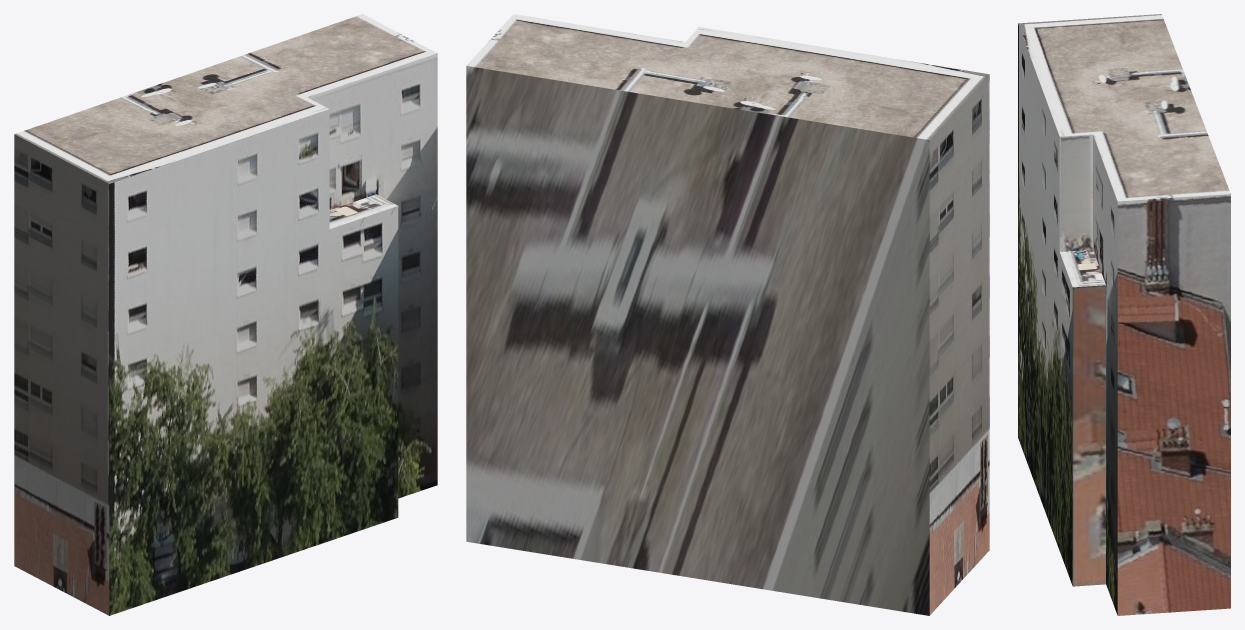
3 renders of one model, left to right at view 1: azimuth 30°, elevation 25°; view 2: azimuth 150°, elevation 25°; view 3: azimuth 270°, elevation 25°, orthographic. The views are drawn at different scales.
Parts seen in each view (by area): view 1: Z_UP; view 2: Z_UP; view 3: Z_UP.
Boxes of the visible parts, x1=… form: Z_UP: x1=14, y1=14, x2=437, y2=615; Z_UP: x1=466, y1=14, x2=989, y2=615; Z_UP: x1=1018, y1=14, x2=1230, y2=615.
Size of the model in its own units: 20.56 by 21.2 by 9.86.
2 materials, 1 textured.
